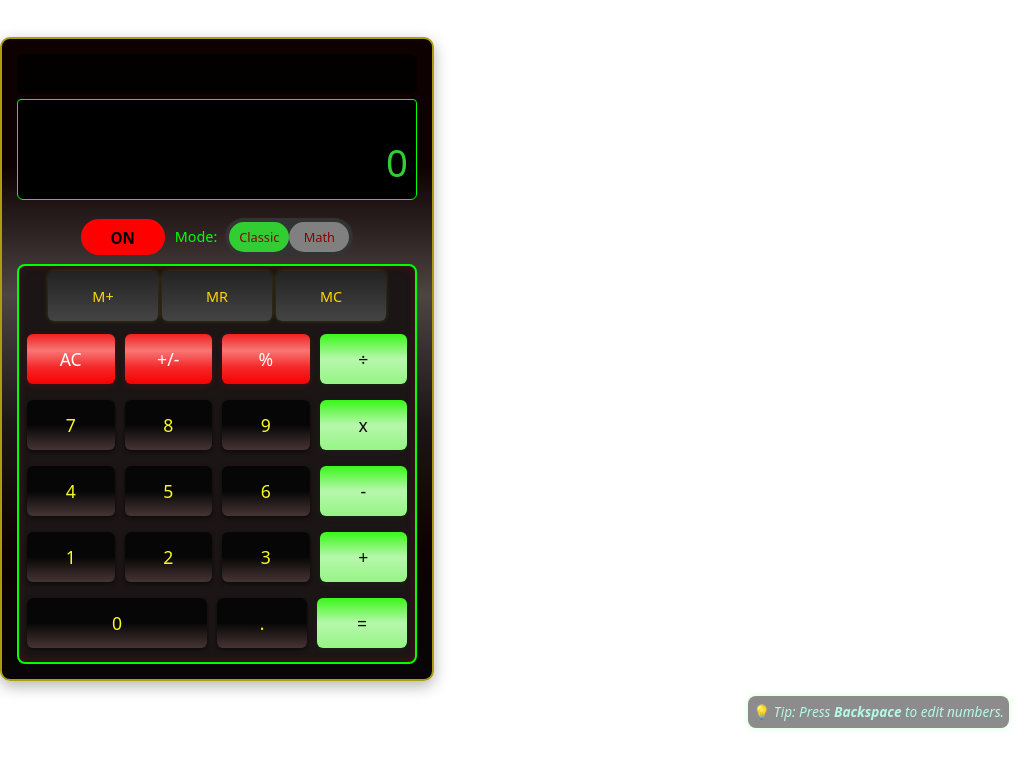
Test: Calculator App › adds two numbers correctly
Click the button named "button-2" at (168,557), box 124,532 -> 212,582
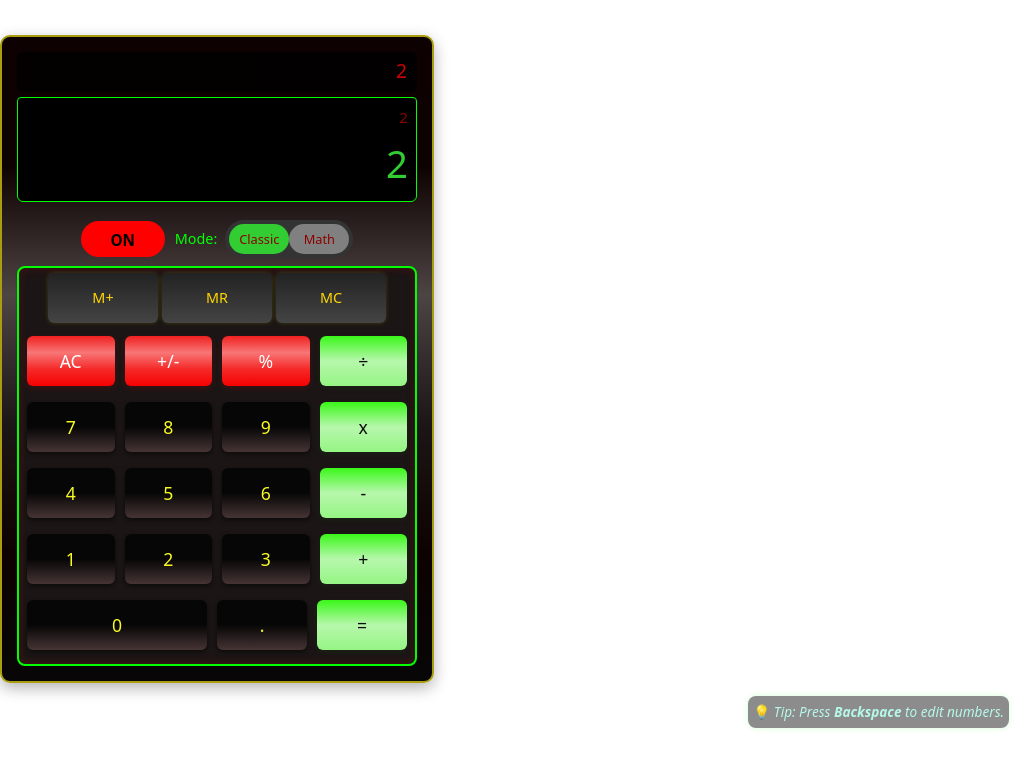
Click the button named "button-+" at (363,559), box 320,534 -> 407,584
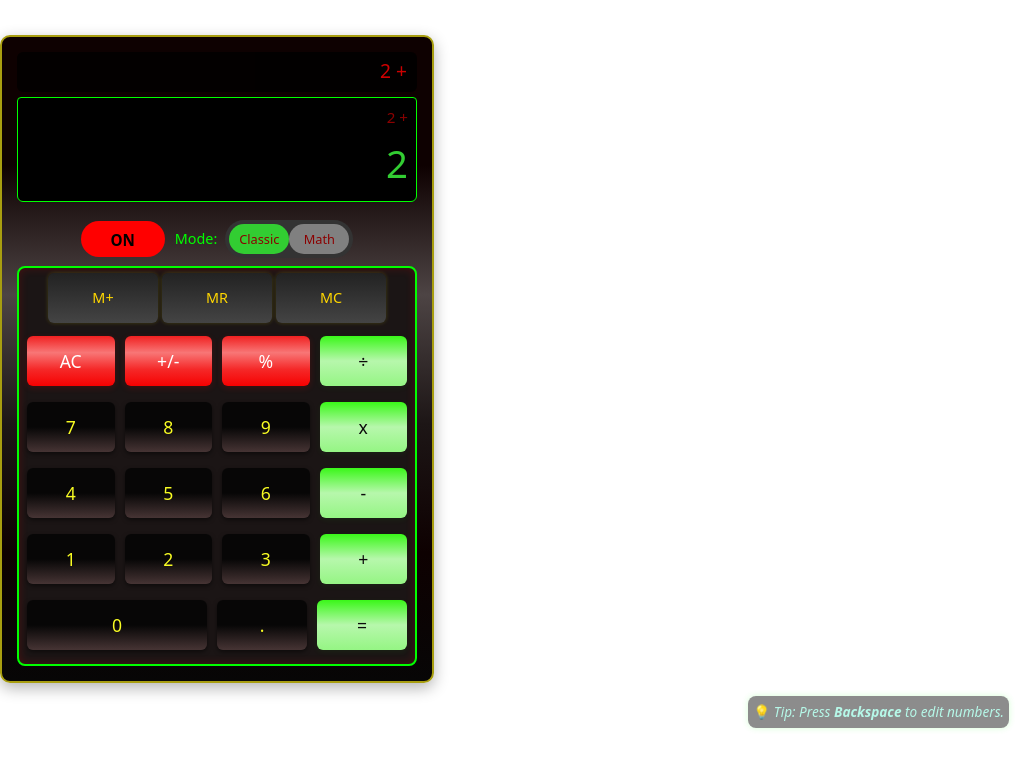
Click the button named "button-2" at (168,559), box 124,534 -> 212,584
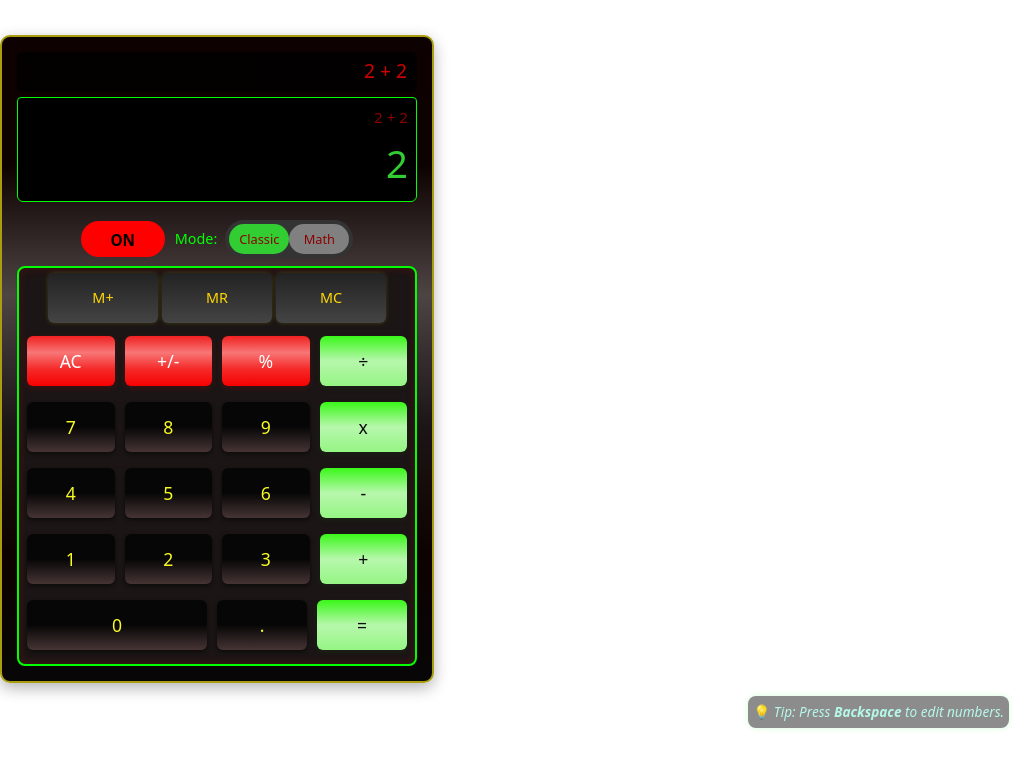
Click the button named "button-=" at (362,625), box 317,600 -> 407,650
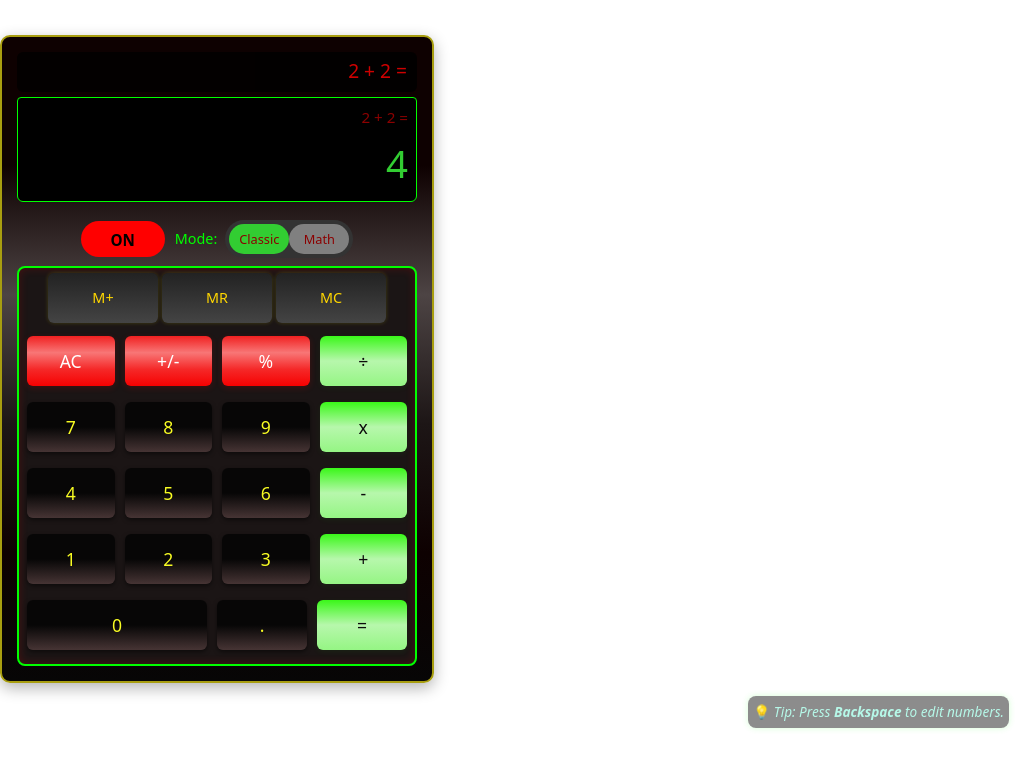
Check: the message with id "display" shows "4", box 386,137 -> 408,189
